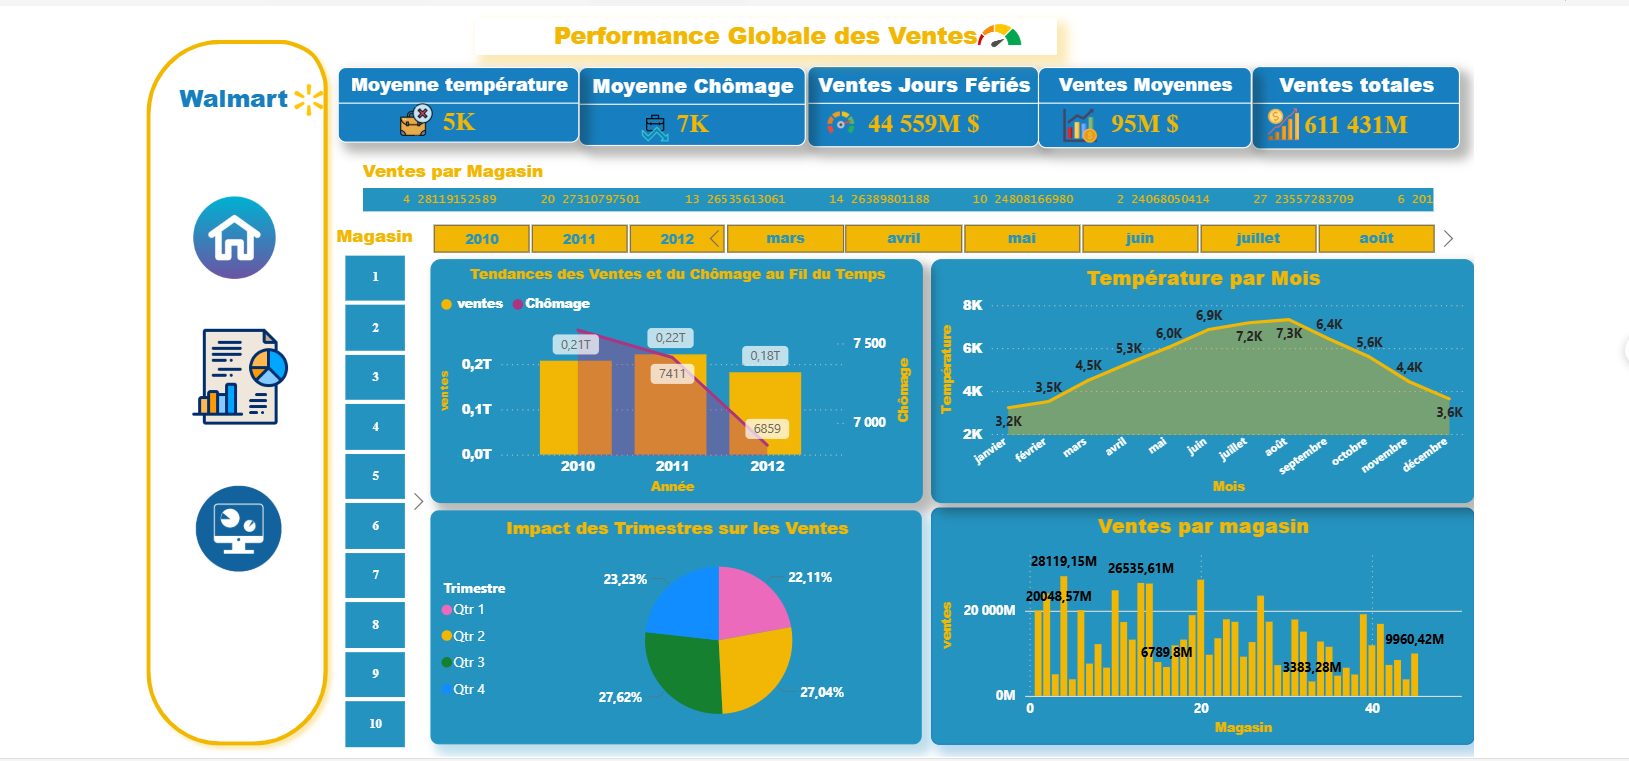

The dashboard page shown, as its layout file describes it:
{"tool":"powerbi","page":{"name":"Vue d'ensemble des Ventes","canvas":[1280,720],"ordinal":0},"visuals":[{"type":"card","title":"Ventes totales","fields":{"Values":["Dimention M.Toltal Sales"]},"box":[1066.9,57.5,199.3,80.5],"z":0},{"type":"slicer","title":"Magasin","fields":{"Values":["Dimention M.Store"]},"box":[174.1,208.4,106.6,508.1],"z":1000},{"type":"slicer","fields":{"Values":["Walmart_Sales.Date.Variation.Hiérarchie de dates.Année"]},"box":[258.1,201.9,328.4,40.9],"z":2000},{"type":"slicer","fields":{"Values":["Walmart_Sales.Date.Variation.Hiérarchie de dates.Mois"]},"box":[539.2,201.9,727,40.9],"z":3000},{"type":"clusteredColumnChart","title":"Ventes par magasin","fields":{"Category":["Dimention M.Store"],"Y":["Sum(Walmart_Sales.Weekly_Sales)"]},"box":[760.2,480.1,520.1,226.7],"z":4000},{"type":"lineChart","title":"Température par Mois","fields":{"Category":["Walmart_Sales.Date.Variation.Hiérarchie de dates.Mois"],"Y":["Avg(Walmart_Sales.Temperature)"]},"box":[760.2,242.8,520,233.8],"z":5000},{"type":"card","title":"Ventes Jours Fériés","fields":{"Values":["Dimention M.Ventes_Jours_Fériés"]},"box":[641.4,57.5,222.3,77.9],"z":6000},{"type":"lineStackedColumnComboChart","title":"Tendances des Ventes et du Chômage au Fil du Temps","fields":{"Category":["Walmart_Sales.Date.Variation.Hiérarchie de dates.Année","Walmart_Sales.Date.Variation.Hiérarchie de dates.Trimestre","Walmart_Sales.Date.Variation.Hiérarchie de dates.Mois","Walmart_Sales.Date.Variation.Hiérarchie de dates.Jour"],"Y":["Sum(Walmart_Sales.ventes hebdomadaires)"],"Y2":["Avg(Walmart_Sales.Chômage)"]},"box":[281.1,242.8,471.5,233.8],"z":7000},{"type":"image","box":[1077.1,92,40.9,44.7],"z":8000},{"type":"image","box":[652.9,93.3,43.4,35.8],"z":9000},{"type":"ScrollingTextVisual1448795304508","title":"Ventes par Magasin","fields":{"Category":["Dimention M.Store"],"Measure Absolute":["Sum(Walmart_Sales.ventes hebdomadaires)"]},"box":[210.8,145.7,1034.9,56.2],"z":10000},{"type":"textbox","title":"Performance Globale des Ventes","box":[322.7,12,557.4,34.7],"z":11000},{"type":"card","title":"Ventes Moyennes","fields":{"Values":["Dimention M.Average_Weekly_Sales"]},"box":[862.4,58.8,204.4,77.9],"z":12000},{"type":"image","box":[880.3,88.2,44.7,52.4],"z":13000},{"type":"pieChart","title":"Impact des Trimestres sur les Ventes","fields":{"Category":["Walmart_Sales.Date.Variation.Hiérarchie de dates.Trimestre"],"Y":["Sum(Walmart_Sales.ventes hebdomadaires)"]},"box":[281.4,482.8,470.8,224],"z":14000},{"type":"shape","box":[0,23,191.7,693.8],"z":15000},{"type":"textbox","title":"   Walmart","box":[0,71.6,185.3,77.9],"z":16000},{"type":"image","box":[122.7,46,84.3,88.2],"z":17000},{"type":"image","box":[48.6,176.3,89.4,90.7],"z":18000},{"type":"image","box":[29.4,438.3,135.4,123.9],"z":19000},{"type":"image","box":[47.3,301.5,102.2,106],"z":20000},{"type":"card","title":"Moyenne Chômage","fields":{"Values":["Dimention M.Moyenne_Chomage"]},"box":[422.9,58.8,217.2,75.4],"z":21000},{"type":"image","box":[452.3,98.4,86.9,35.8],"z":22000},{"type":"card","title":"Moyenne  température","fields":{"Values":["Dimention M.Temperature_Moyenne"]},"box":[191.7,58.8,231.3,72.8],"z":23000},{"type":"image","box":[236.4,88.2,62.6,40.9],"z":24000},{"type":"image","box":[800.2,0,52,57.3],"z":25000}]}

Visuals, with their boxes in screenshot pixels (x1, y1, x2, y2):
"Ventes totales" card: 1245/60/1453/144
"Magasin" slicer: 317/217/428/745
slicer - Walmart_Sales.Date.Variation.Hiérarchie de dates.Année: 404/210/746/253
slicer - Walmart_Sales.Date.Variation.Hiérarchie de dates.Mois: 697/210/1453/253
"Ventes par magasin" clusteredColumnChart: 926/499/1467/735
"Température par Mois" lineChart: 926/253/1467/496
"Ventes Jours Fériés" card: 803/60/1034/141
"Tendances des Ventes et du Chômage au Fil du Temps" lineStackedColumnComboChart: 428/253/919/496
image: 1256/96/1299/142
image: 815/97/860/134
"Ventes par Magasin" ScrollingTextVisual1448795304508: 355/152/1431/210
"Performance Globale des Ventes" textbox: 471/12/1051/49
"Ventes Moyennes" card: 1033/61/1245/142
image: 1051/92/1098/146
"Impact des Trimestres sur les Ventes" pieChart: 428/502/918/735
shape: 136/24/335/746
"   Walmart" textbox: 136/74/328/155
image: 263/48/351/140
image: 186/183/279/278
image: 166/456/307/585
image: 185/314/291/424
"Moyenne Chômage" card: 576/61/802/140
image: 606/102/697/140
"Moyenne  température" card: 335/61/576/137
image: 382/92/447/134
image: 968/0/1022/60
